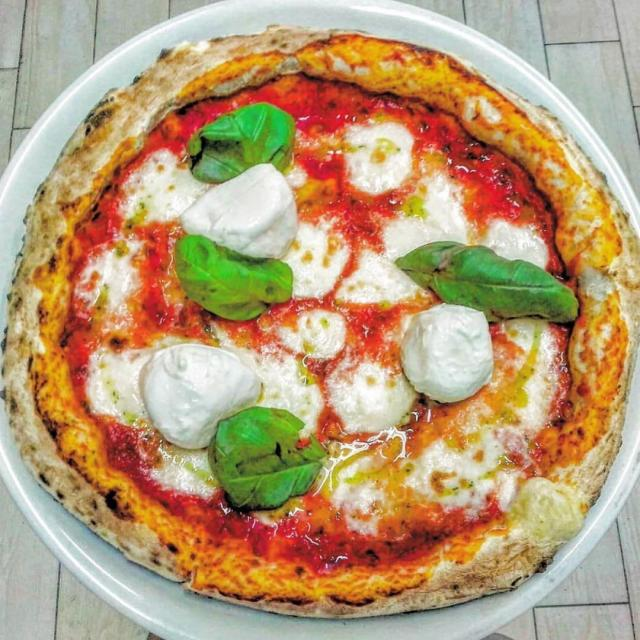basil: (399, 232, 575, 316), (211, 407, 325, 509), (174, 232, 295, 321), (184, 104, 291, 178)
pizza: (5, 26, 640, 614)
